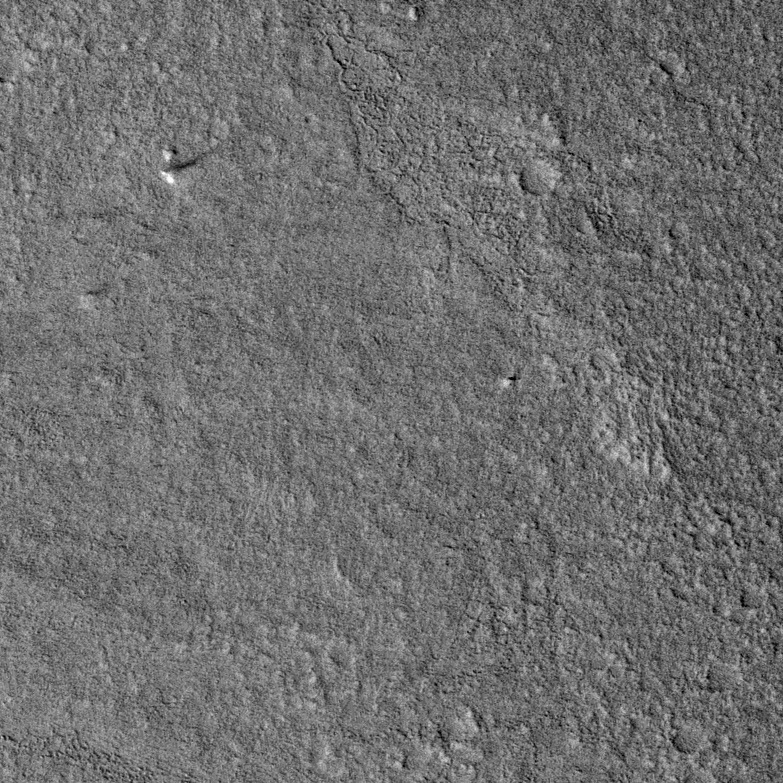dust_devil: (158, 153, 205, 186)
